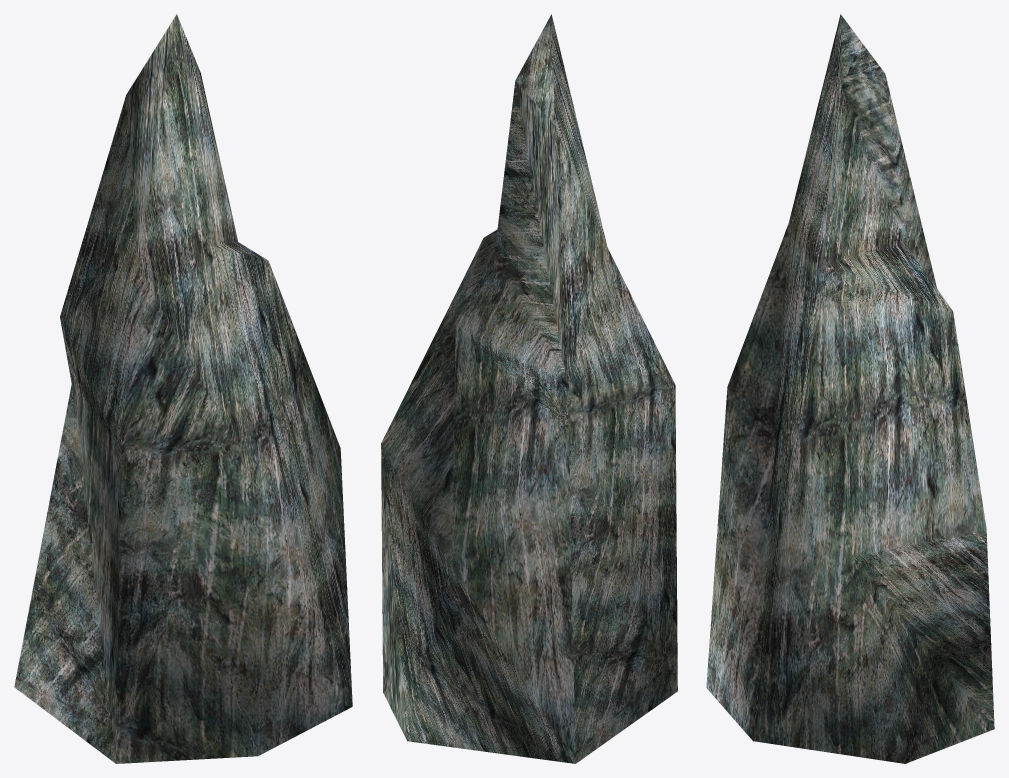
The model's file is rock_dath_desertcanyon_lg_l3.fbx.
The picture shows the model from 3 angles, left to right: view 1: azimuth 30°, elevation 25°; view 2: azimuth 150°, elevation 25°; view 3: azimuth 270°, elevation 25°; orthographic projection. The views are drawn at different scales.
Parts seen in each view (by area): view 1: mesh_node; view 2: mesh_node; view 3: mesh_node.
Part boxes in pixels (box(x1,y1,x2,y2)): mesh_node: box(14, 14, 352, 763); mesh_node: box(381, 14, 677, 763); mesh_node: box(706, 14, 994, 763).
Size of the model in its own units: 6.81 by 17.42 by 6.65.
